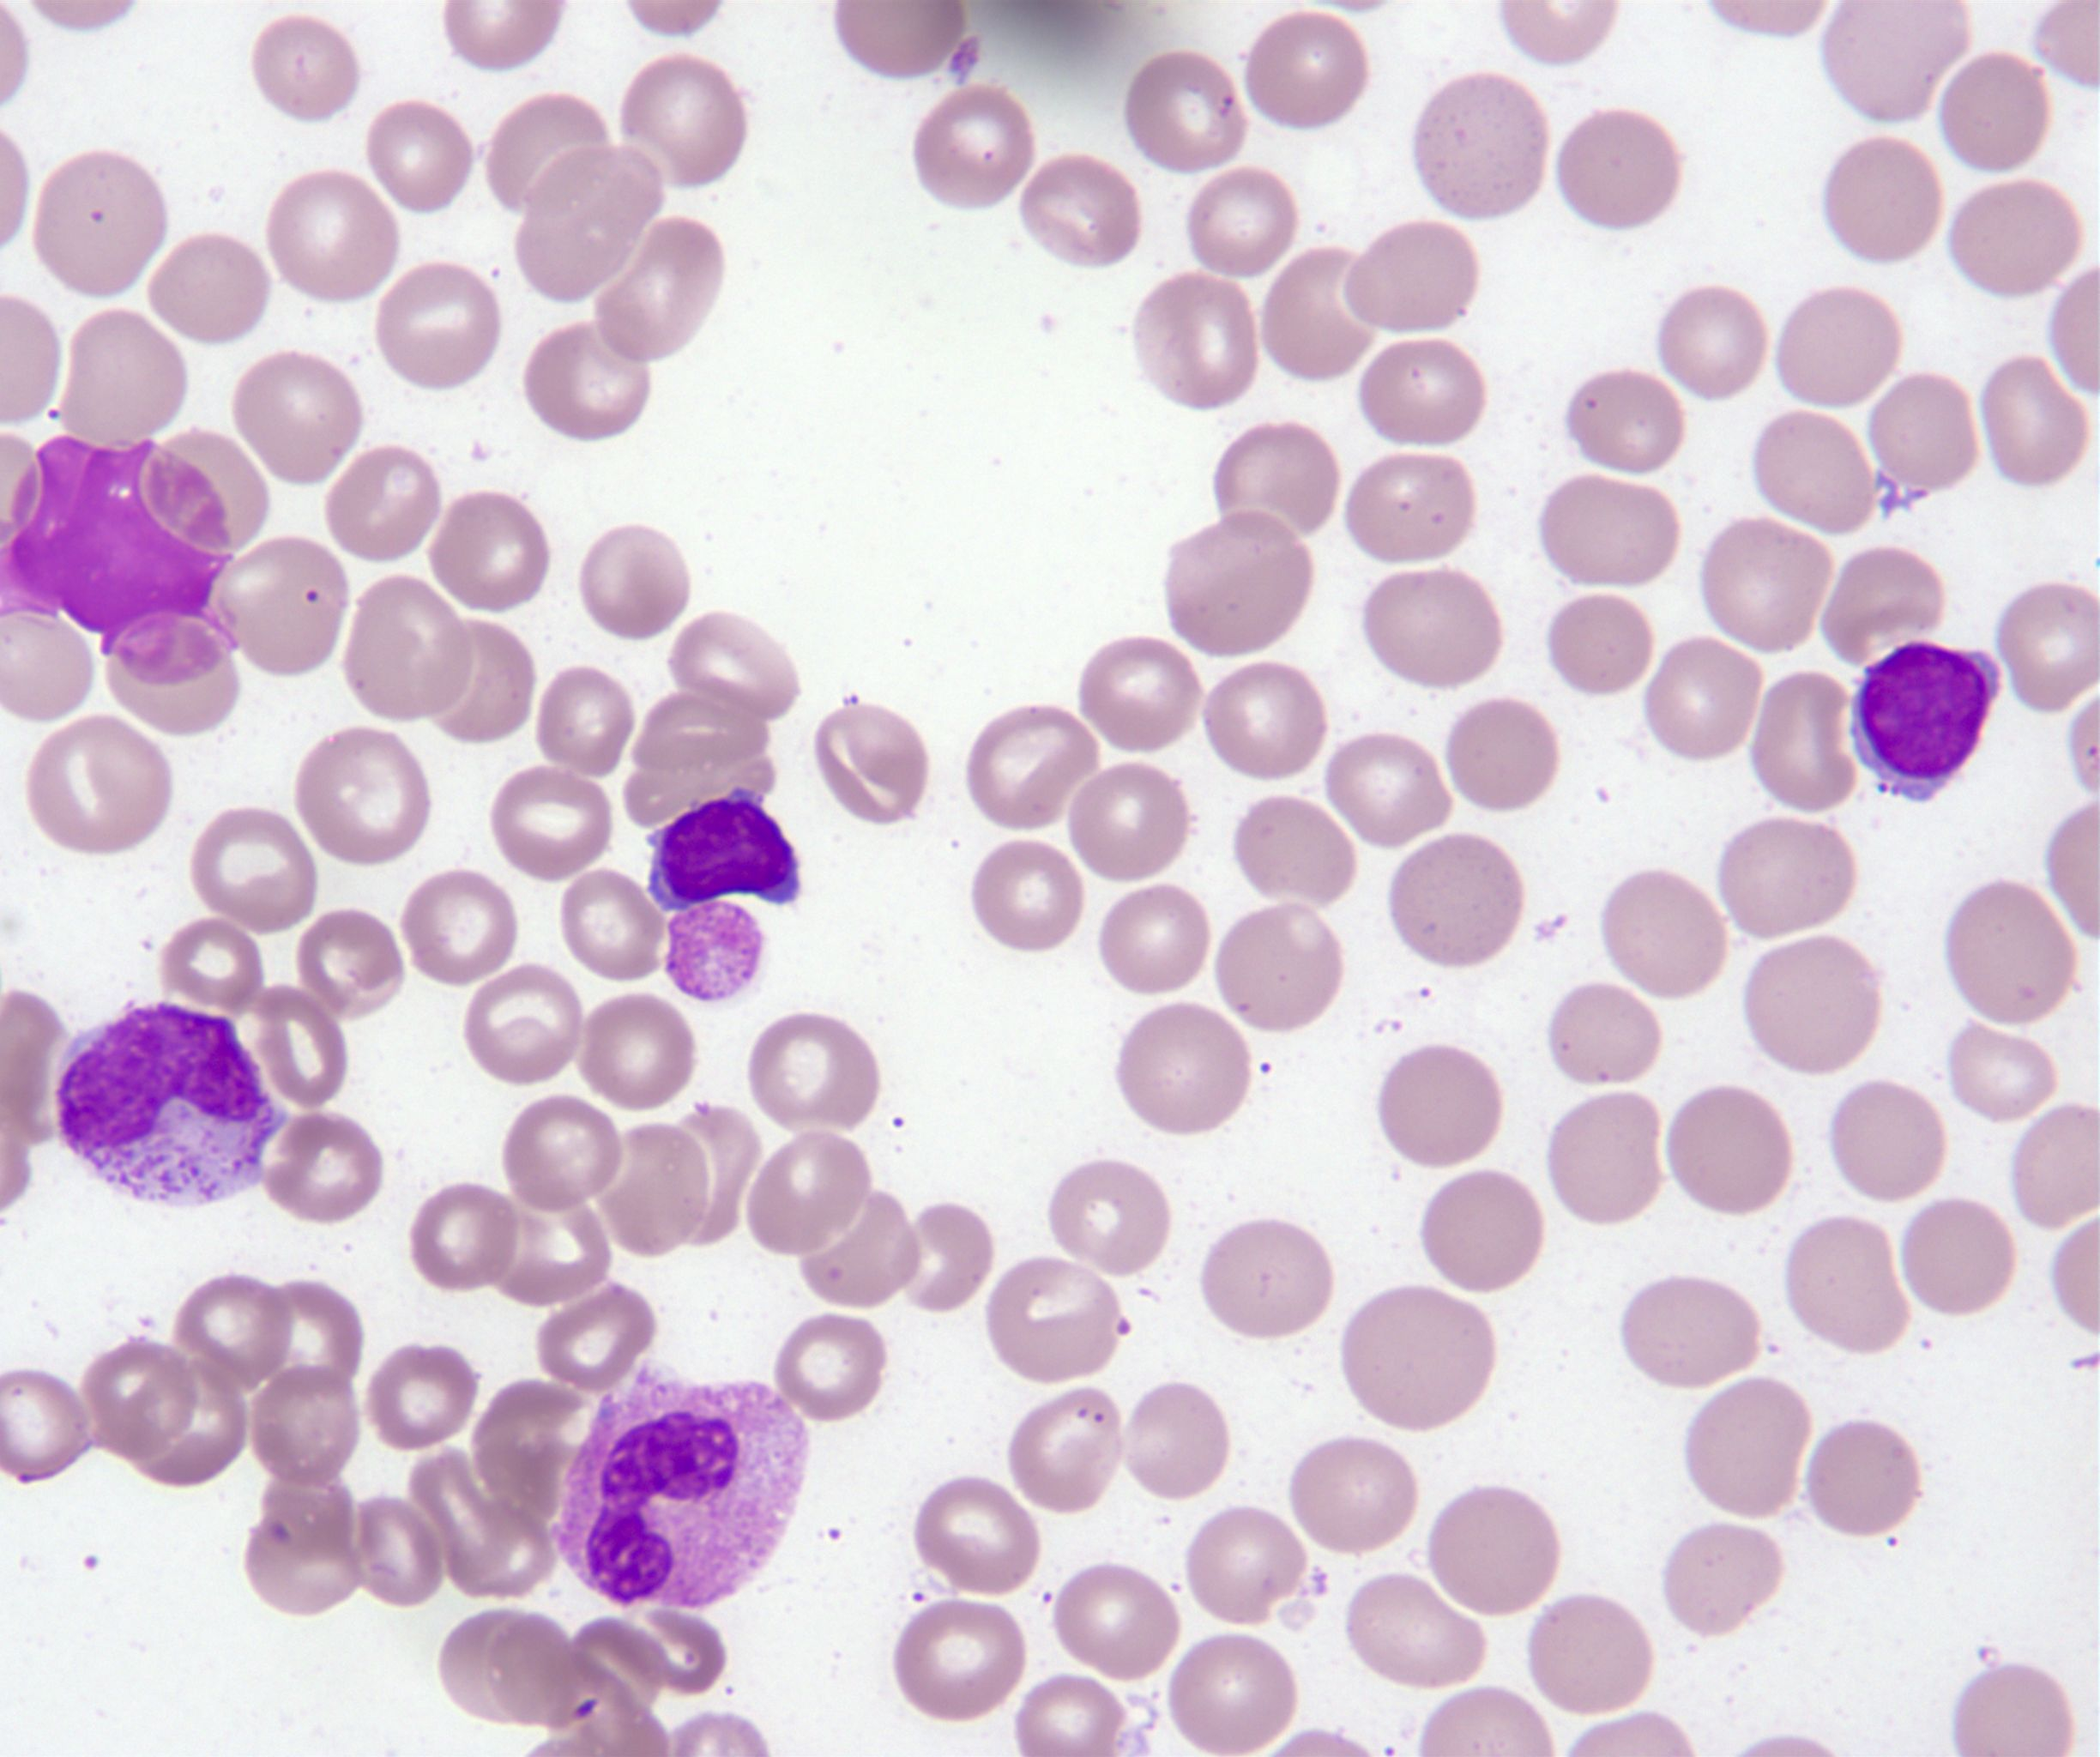32: (1852, 642, 2001, 801), (649, 787, 799, 909)
4: (56, 1003, 288, 1206)
5: (548, 1359, 808, 1609)
x: (5, 436, 241, 684), (666, 902, 764, 1002)
